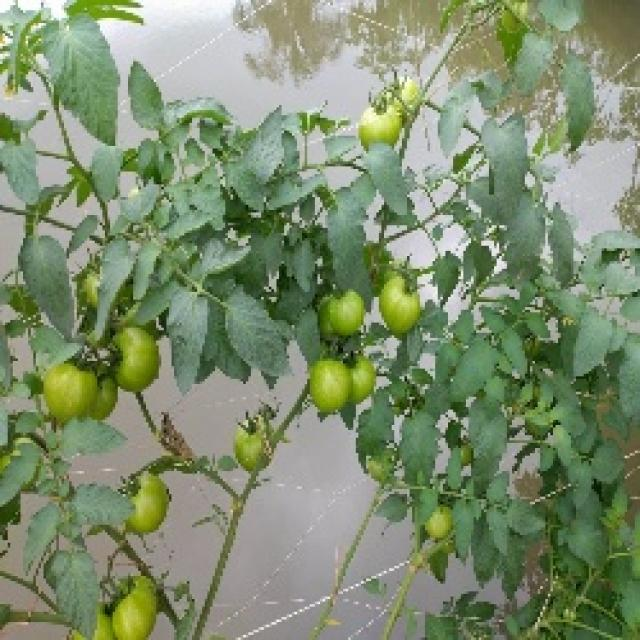tomato: (27, 359, 106, 429), (105, 326, 176, 400), (119, 466, 185, 541), (223, 416, 284, 490), (101, 567, 162, 640), (378, 275, 435, 343), (356, 99, 412, 165), (320, 287, 374, 350), (303, 362, 352, 421), (341, 353, 387, 408), (378, 70, 427, 114), (418, 500, 461, 546)
